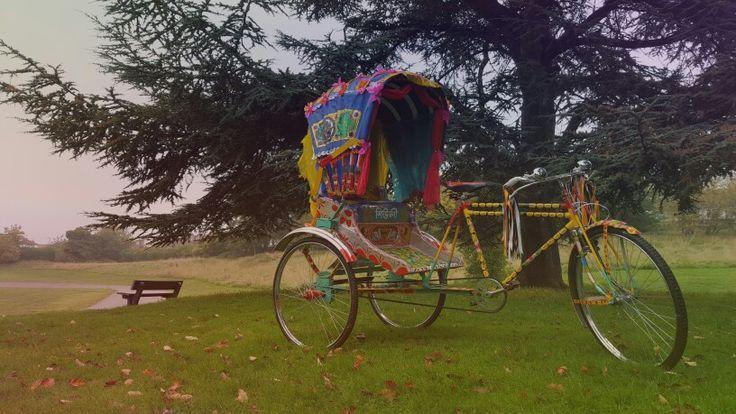Rickshaw: (273, 69, 686, 366)
